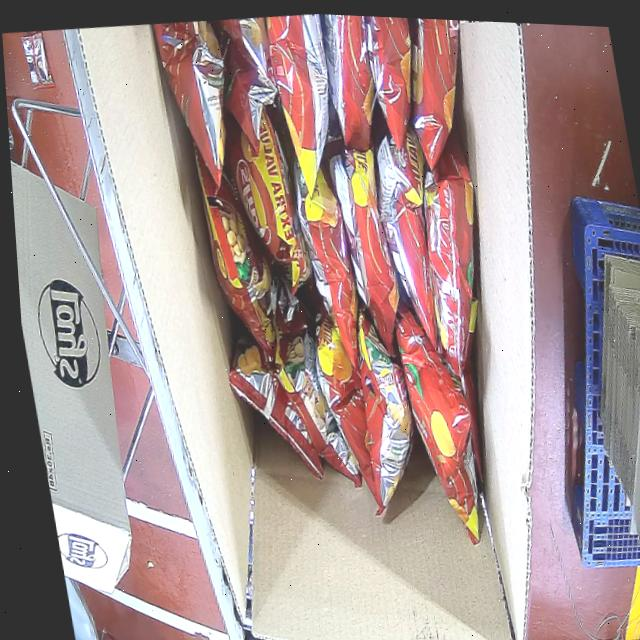MASALA: (148, 7, 550, 571)
